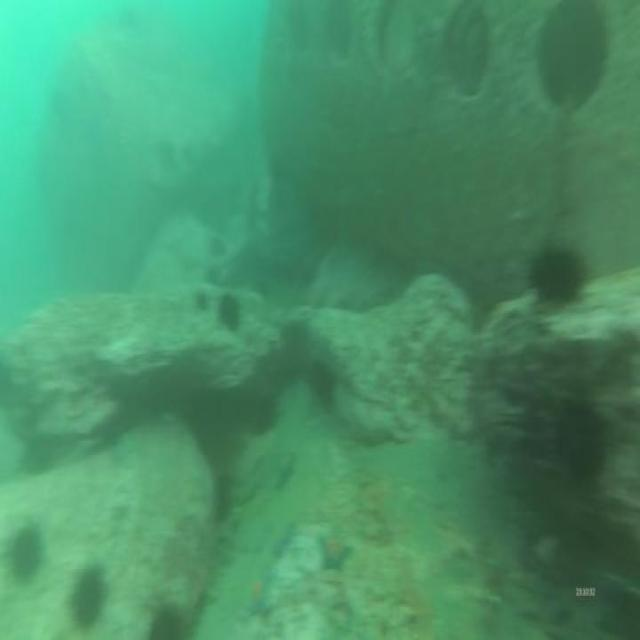echinus: (548, 384, 614, 496), (525, 234, 591, 311), (63, 550, 116, 634), (2, 510, 50, 590), (147, 589, 192, 640), (310, 356, 337, 414), (218, 284, 245, 335)
starfish: (316, 522, 356, 578), (240, 571, 276, 624), (265, 521, 302, 561)
